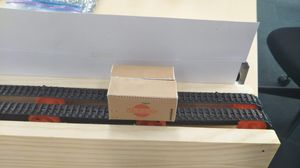box1: (107, 63, 178, 123)
